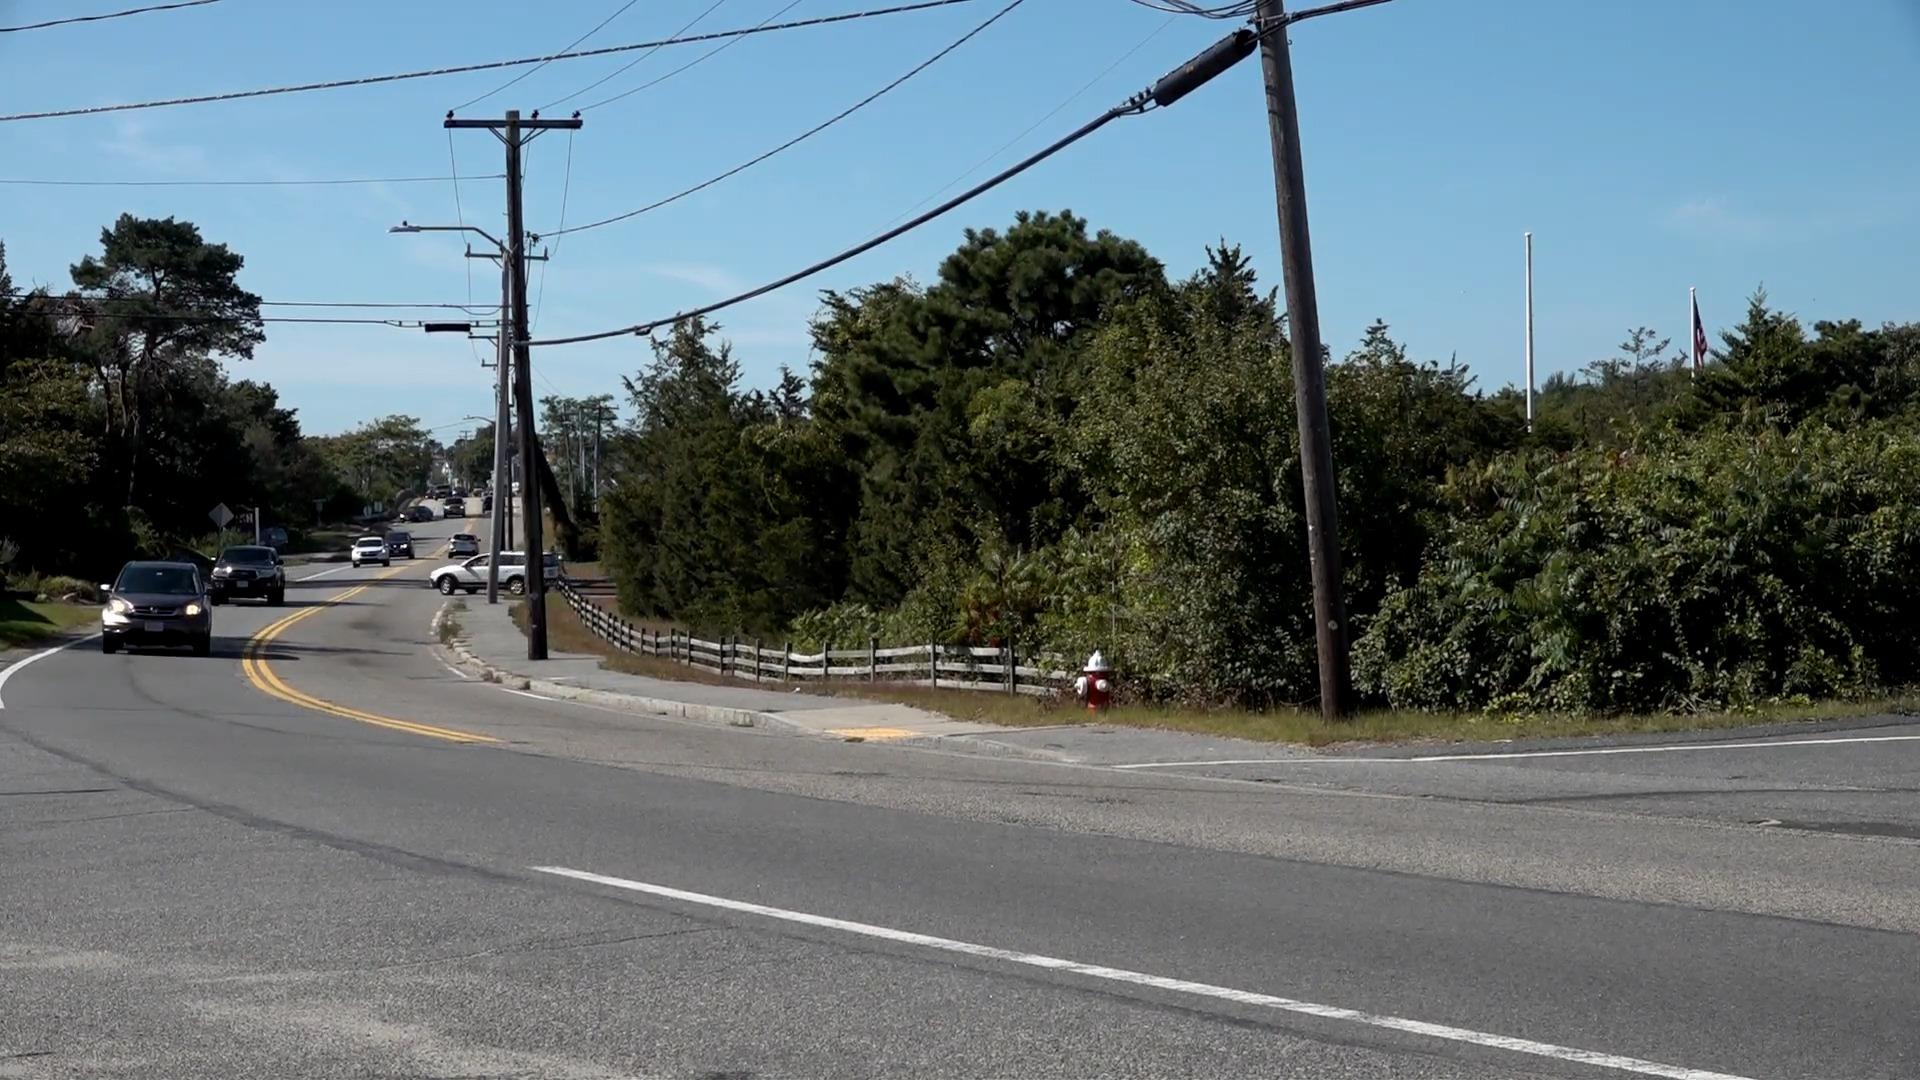pickup: (210, 546, 287, 606)
suv: (100, 559, 216, 657), (433, 550, 557, 599), (351, 536, 390, 570)
